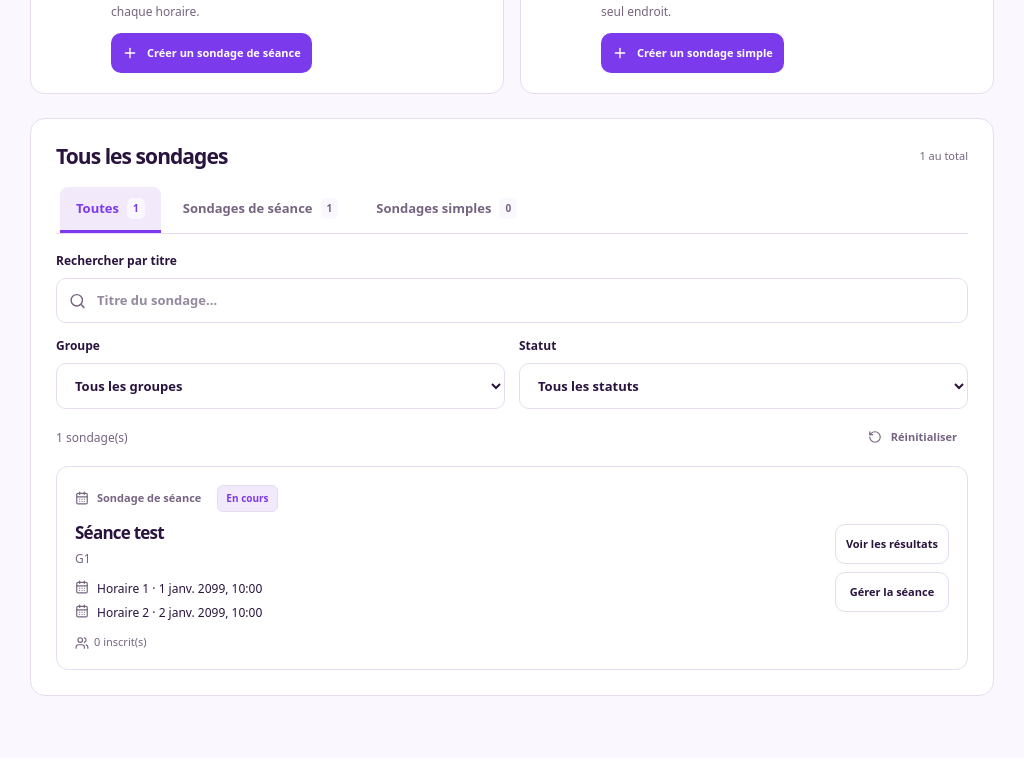
confirms complete deletion and removes the session from the page and calendar data
(page scrolled)
Step 1. Click the button with aria-label "Gérer la séance : Séance test" → (892, 592), box [835,572,949,612]
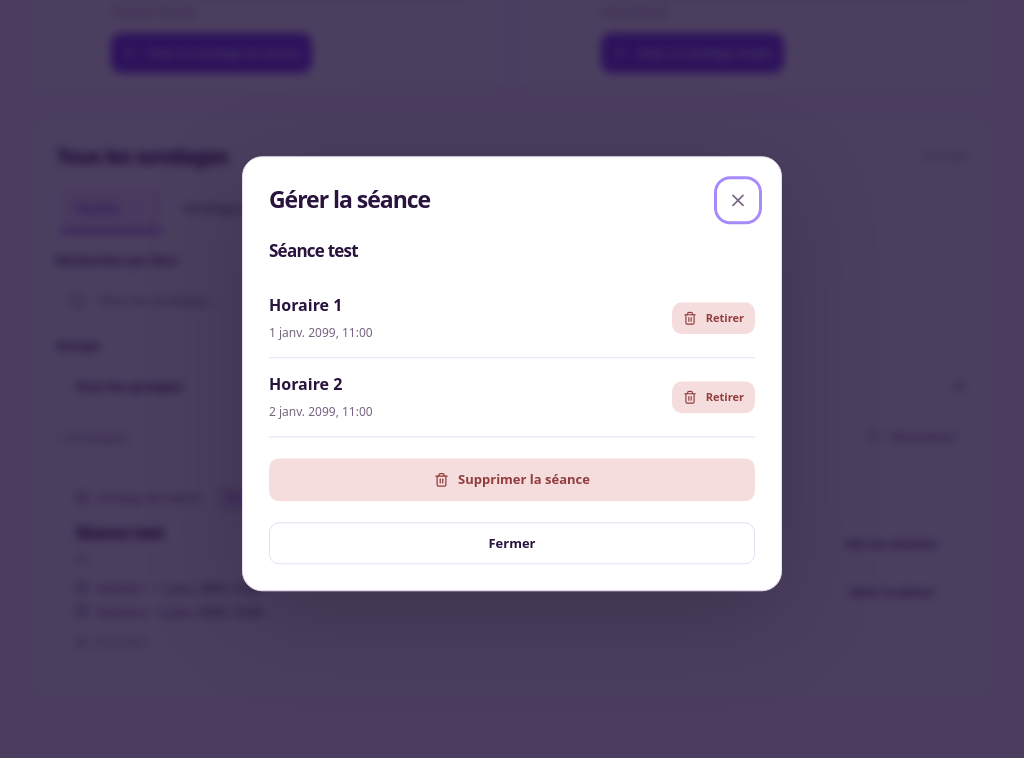
Step 2. Click the button "Supprimer la séance" → (512, 479), box [269,458,755,501]
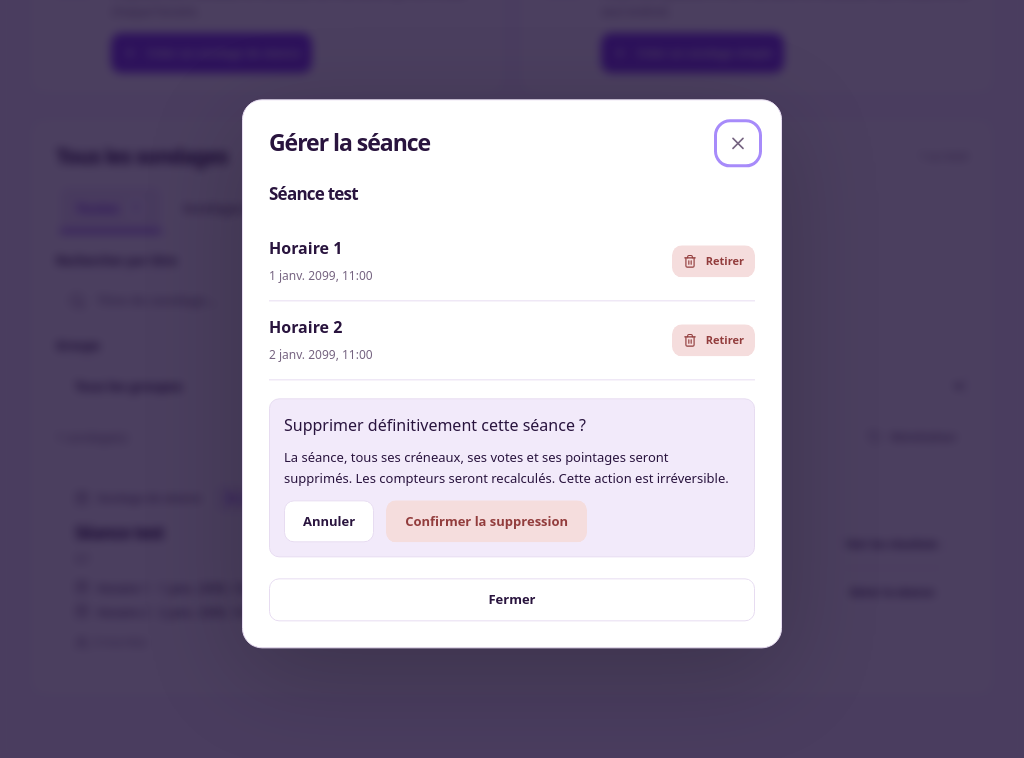
Check: the text "Cette action est irréversible" is shown, box [284,448,729,487]
Step 3. Click the button "Confirmer la suppression" → (487, 521), box [386,500,587,543]
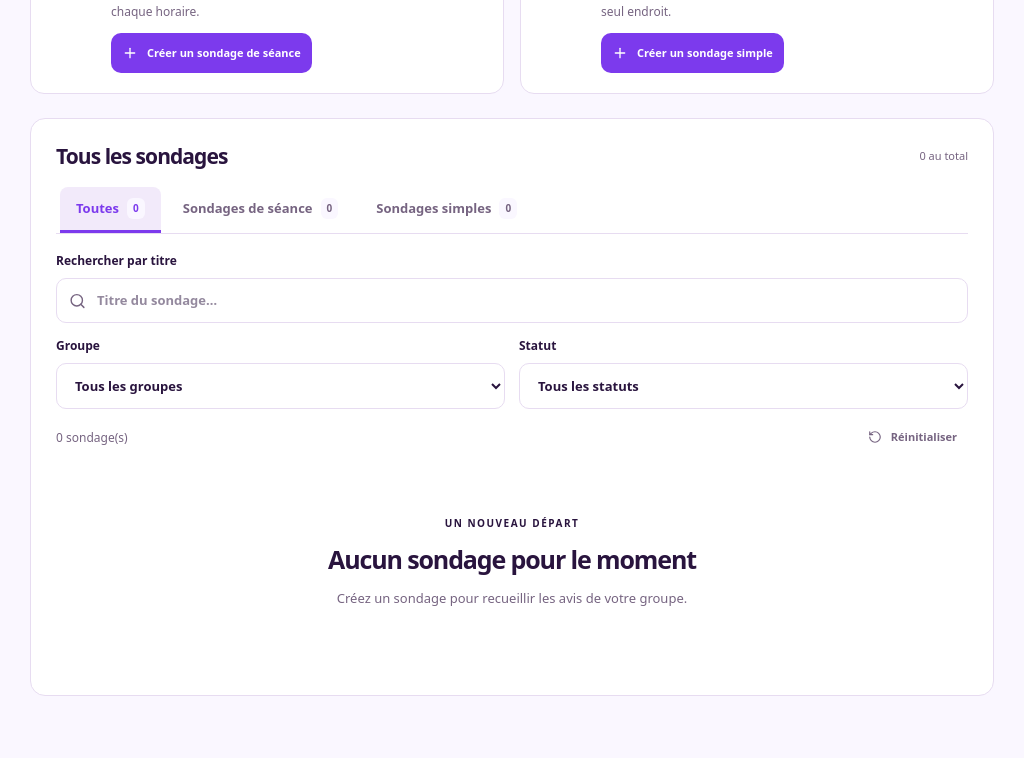
Check: the dialog is gone
